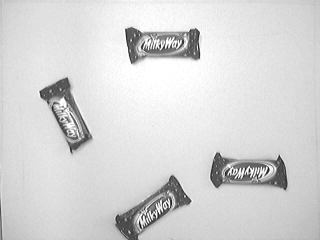Milkyway: (114, 171, 195, 240), (37, 75, 97, 155), (208, 150, 292, 193), (122, 24, 204, 67)
